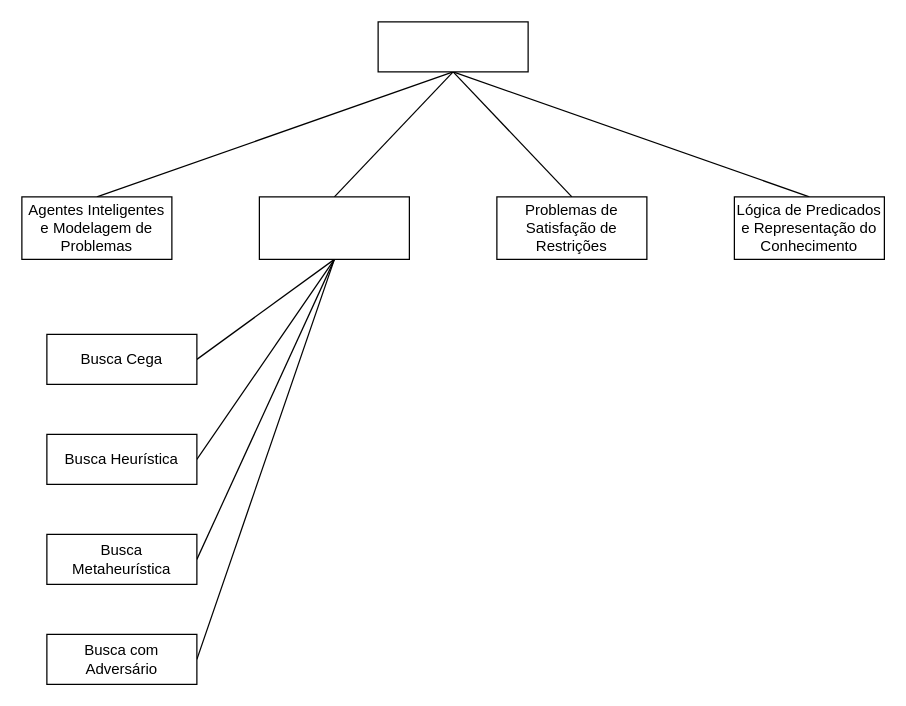
This 906x706 diagram has some shape labels left out. Here are the shapes that lost their labels. From the top down, the centre of each, then its label:
the point at 452,46: IA 1
the point at 333,227: Resolvendo Problemas de Busca
